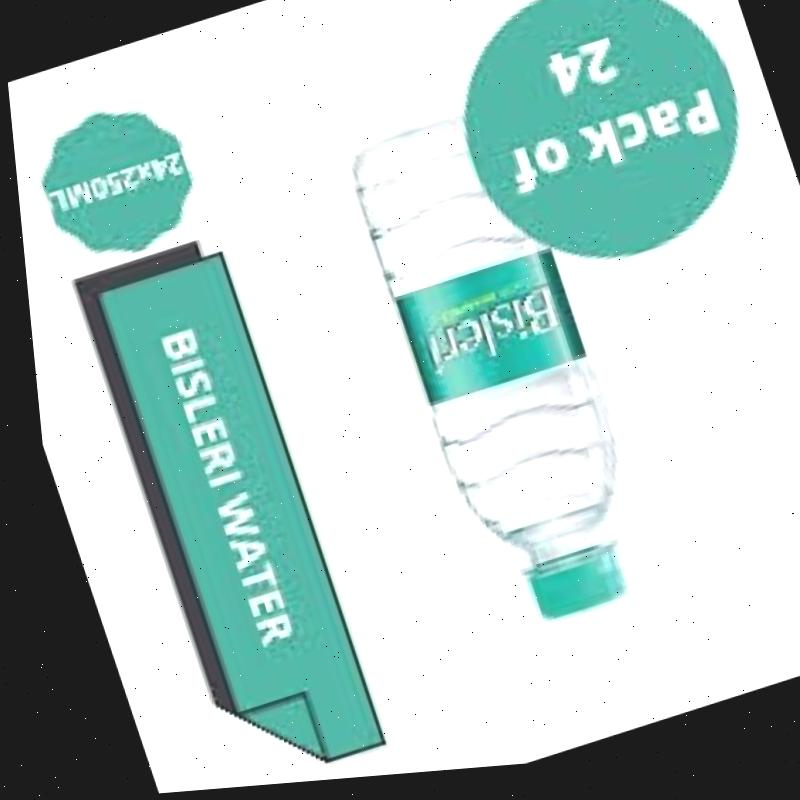botella: (334, 102, 658, 651)
